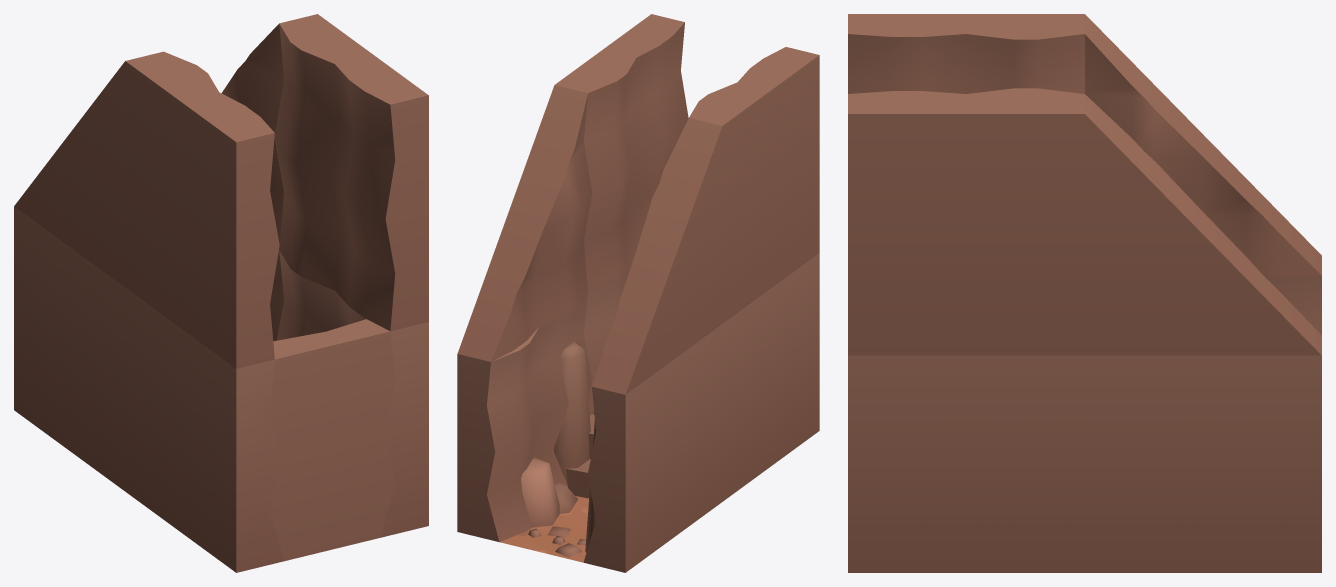
File: stairs.glb
3 renders of one model, left to right at view 1: azimuth 30°, elevation 25°; view 2: azimuth 150°, elevation 25°; view 3: azimuth 270°, elevation 25°, orthographic. The views are drawn at different scales.
Visible parts, largest first — view 1: stairs; view 2: stairs; view 3: stairs.
Boxes of the visible parts, bbox=[...] form: stairs: bbox=[14, 14, 428, 572]; stairs: bbox=[457, 14, 819, 572]; stairs: bbox=[848, 14, 1321, 572].
Bounding box in the file's own units: 4 × 8.55 × 8.
Materials: 1 (1 with a texture image).
